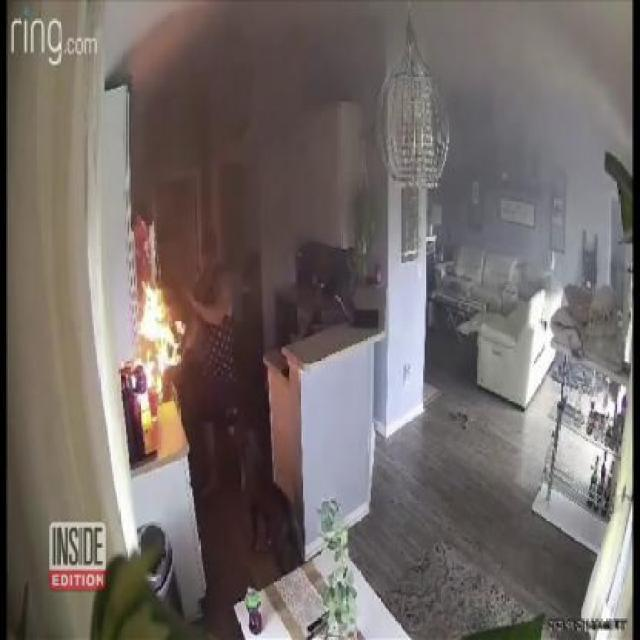fire: (137, 280, 188, 386)
smoke: (441, 14, 634, 138), (129, 13, 365, 110)
